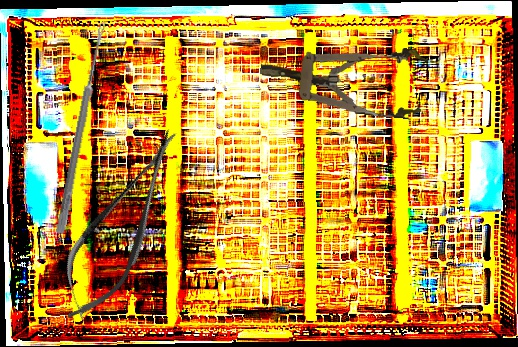Micro Scissor: (40, 116, 204, 335)
Speculum: (256, 33, 430, 121)
Surgical Spoon: (55, 19, 108, 235)
